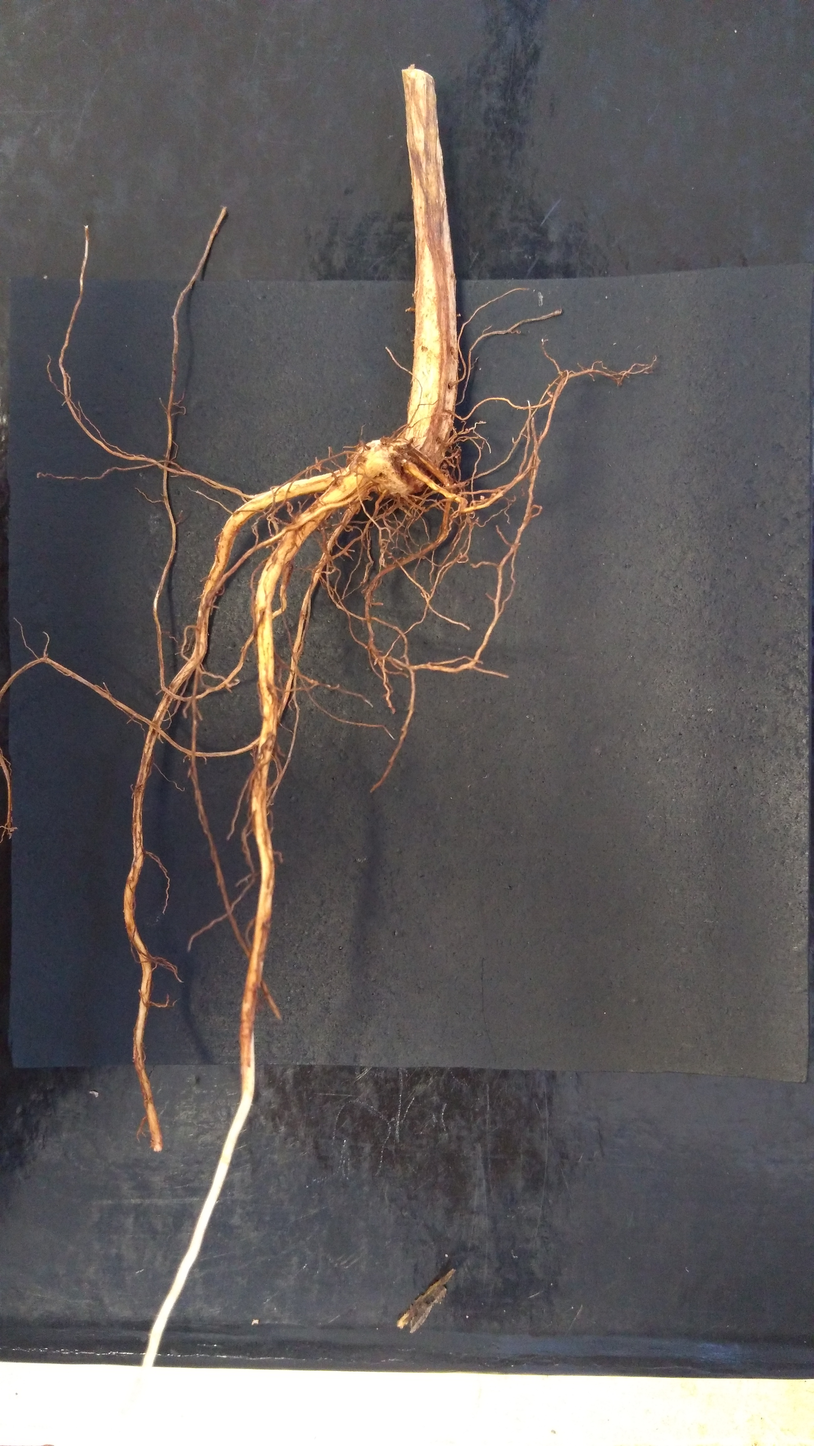nodule: (350, 440, 395, 477), (377, 472, 415, 497), (440, 461, 449, 470), (400, 459, 407, 467), (451, 452, 460, 458), (479, 495, 485, 500), (454, 483, 457, 486)
